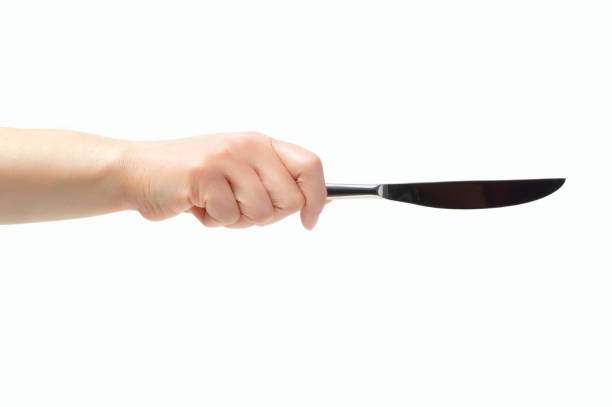knife: (324, 175, 567, 213)
